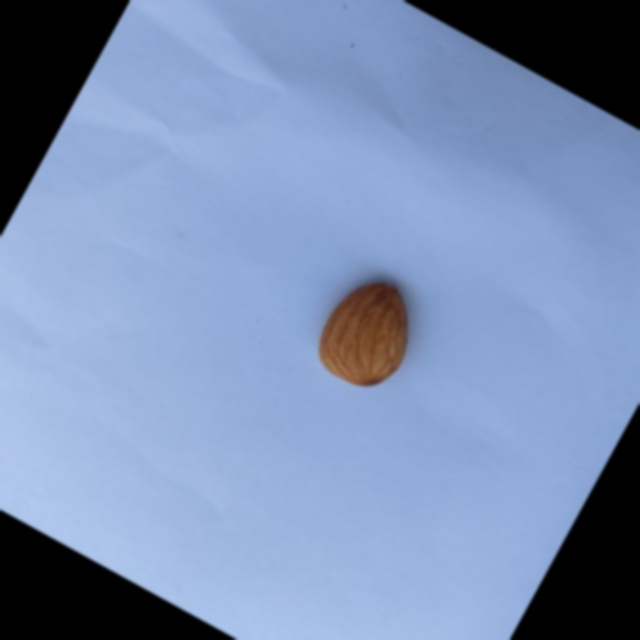grade1: (294, 254, 441, 410)
